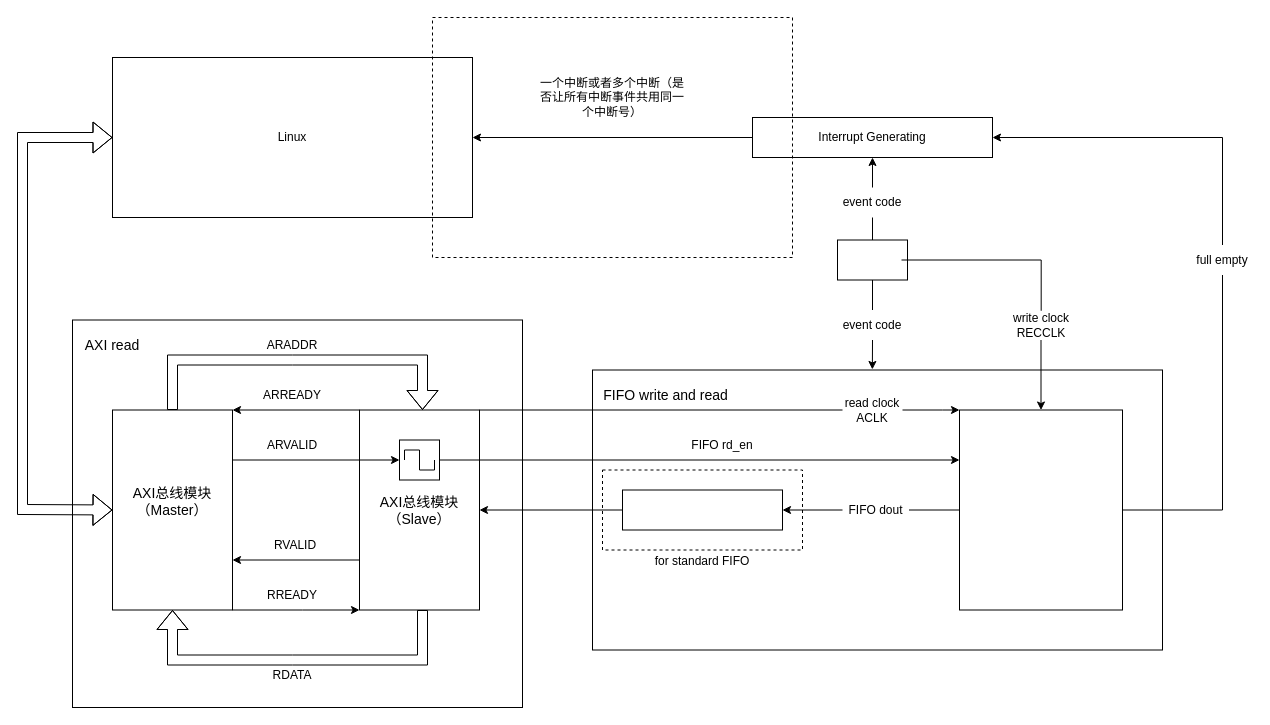
Some shapes in this 1270 by 725 pixel diagram are drawn without their labels. Here are the shapes that lost their labels. From the top down, the box of each, then its label:
(836, 239, 908, 280): GTX
(622, 489, 782, 530): register（cache）
(958, 409, 1122, 610): FIFO （ standard FIFO 读理论需要两个 ACLK 周期，FWFT FIFO 需要一个 ACLK 周期 ）
